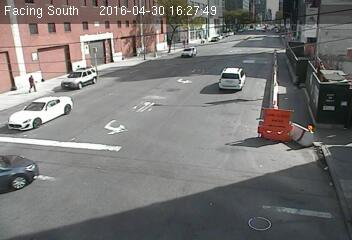neg: (180, 42, 194, 61)
pos: (22, 71, 39, 93)
